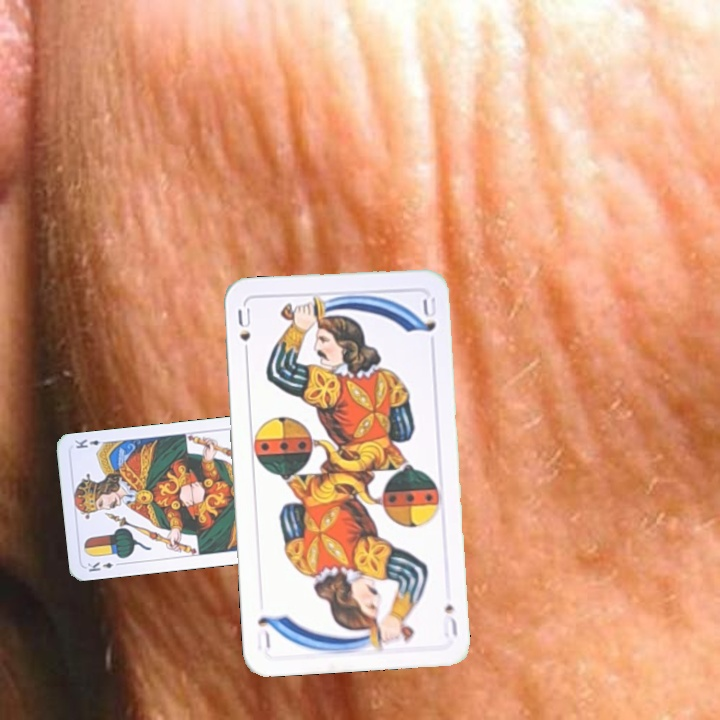EK: (83, 558, 124, 574)
SU: (234, 303, 253, 361), (439, 600, 460, 640)
